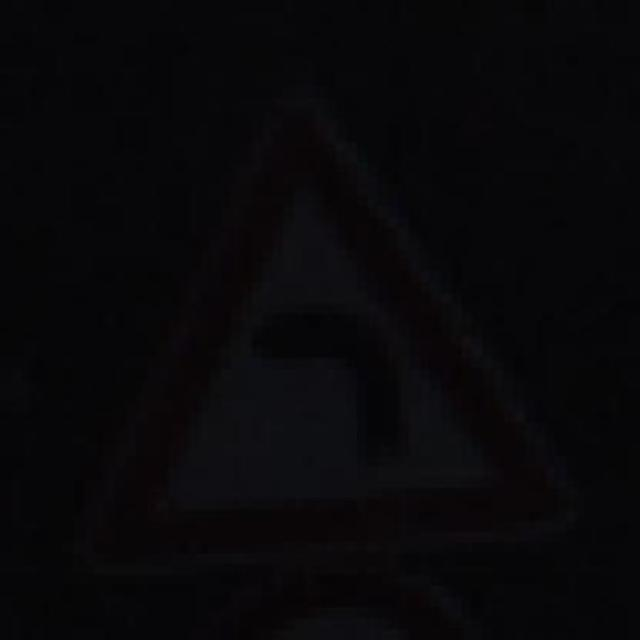Dangerous Left Curve Ahead: (84, 98, 567, 553)
